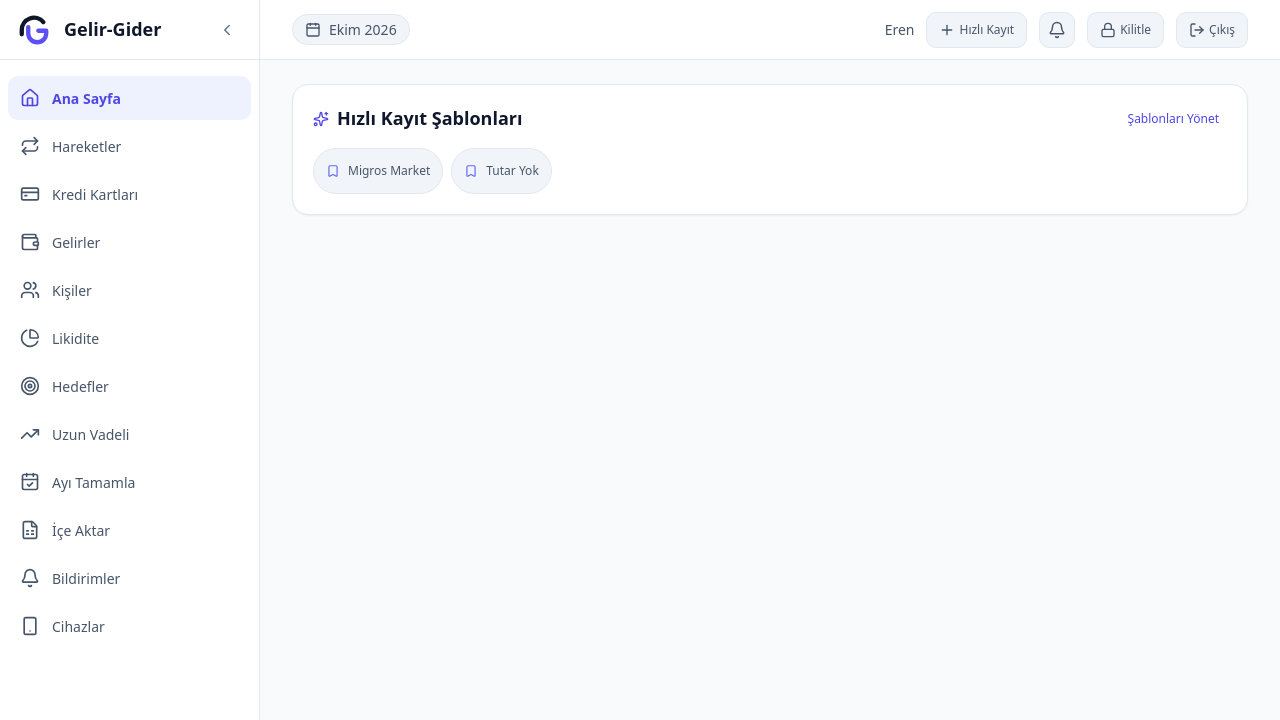
Quick Entry FAB, Sheet & Manual Execution (Section 62-66) › Section 65: template with missing defaultAmount leaves amount blank, focused, blocks zero submission
Click the button with test id "template-chip-tpl-no-amount" at (502, 171), box [464,157,539,185]
(page scrolled)
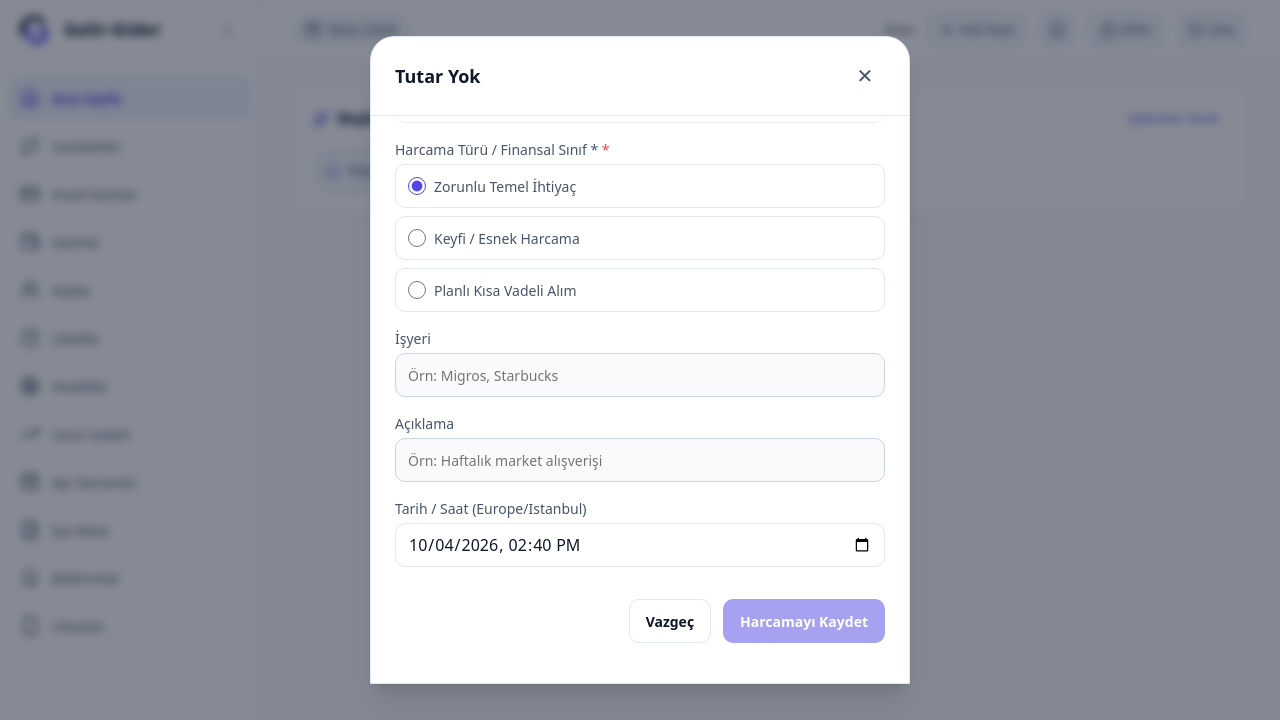
Check: the button with test id "expense-submit-btn" is disabled
// Cannot submit
Click the button with test id "expense-submit-btn" at (804, 621), box [723,599,885,643]
(page scrolled)
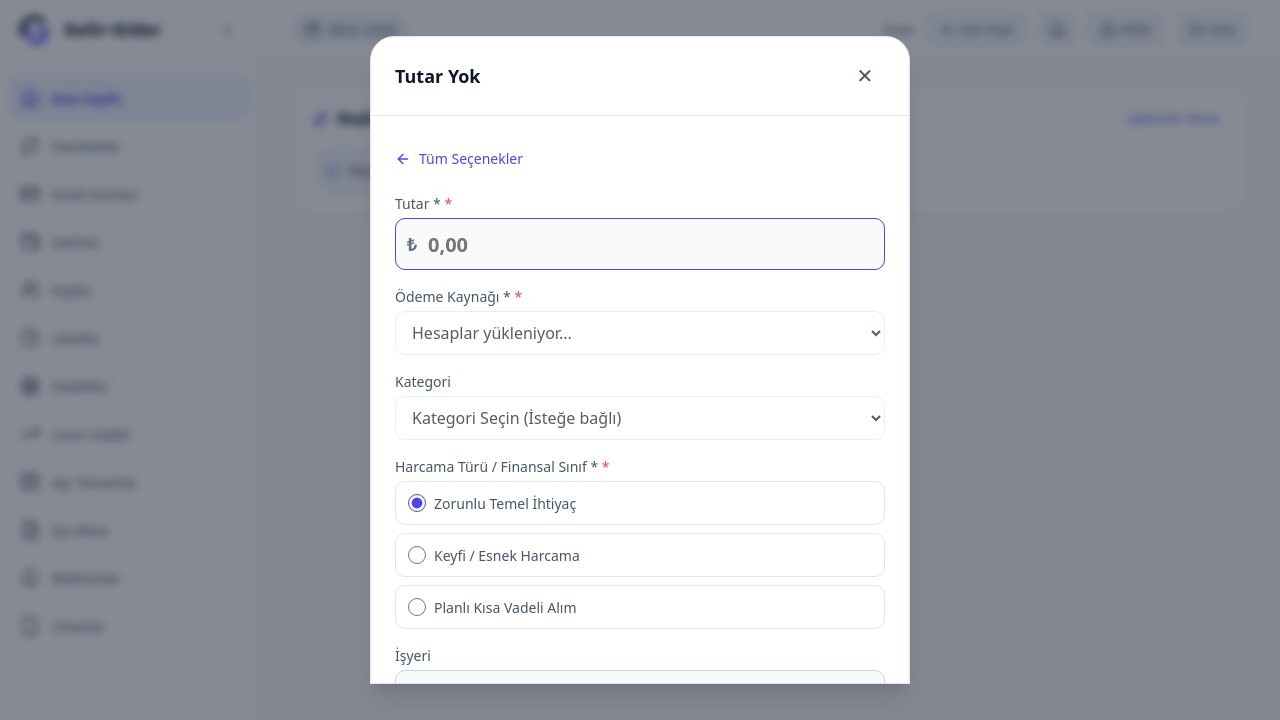
// Entering a valid amount enables submit
Type "45,50" into the field with test id "money-input" at (640, 244), box [395,218,885,270]
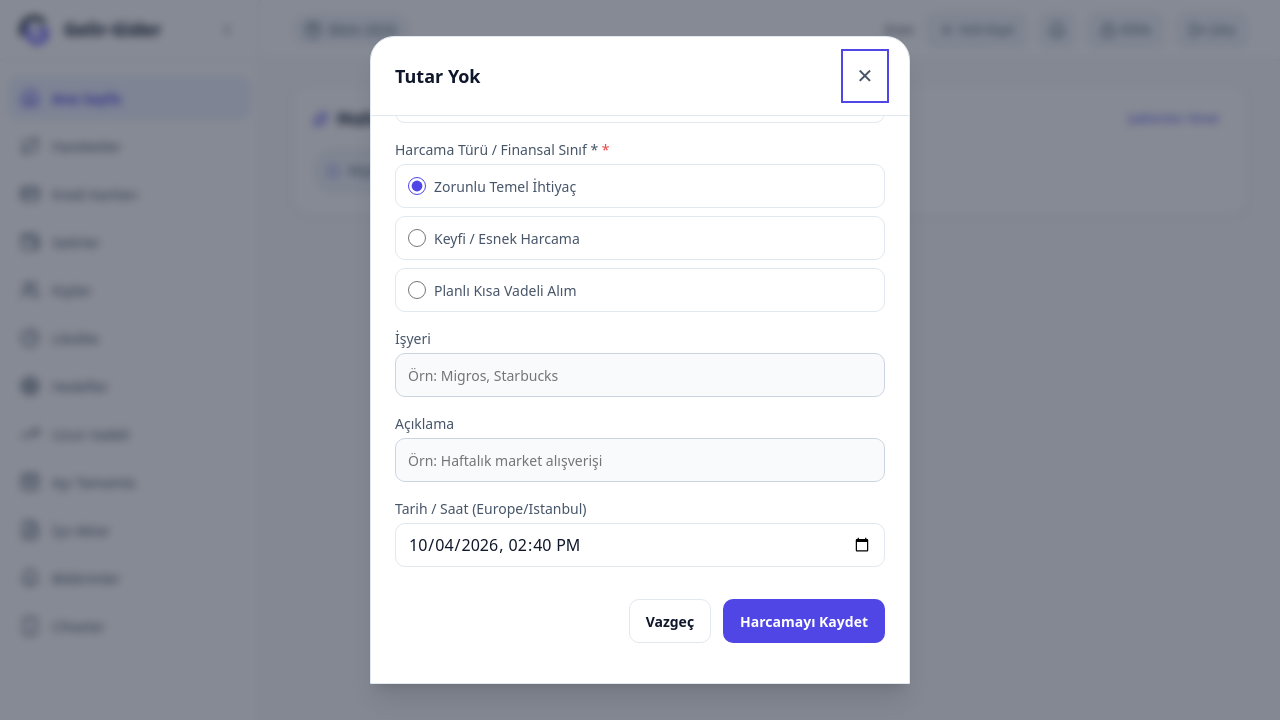
Check: the button with test id "expense-submit-btn" is enabled, box [723,599,885,643]
